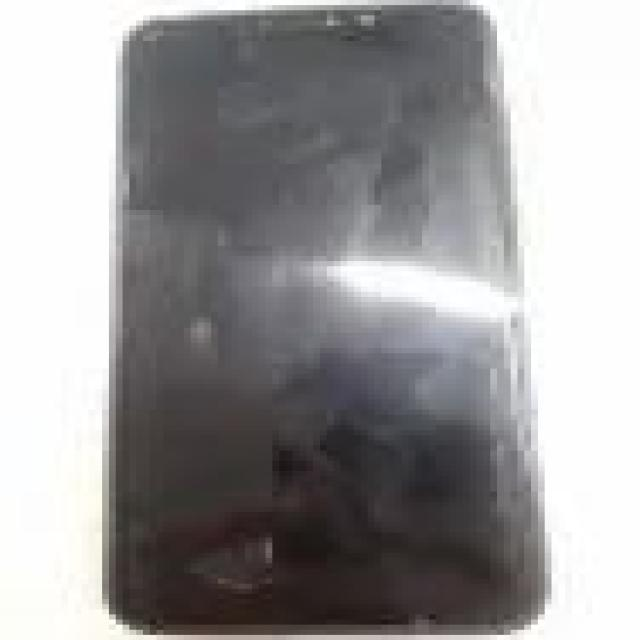mobile phone: (96, 0, 552, 635)
